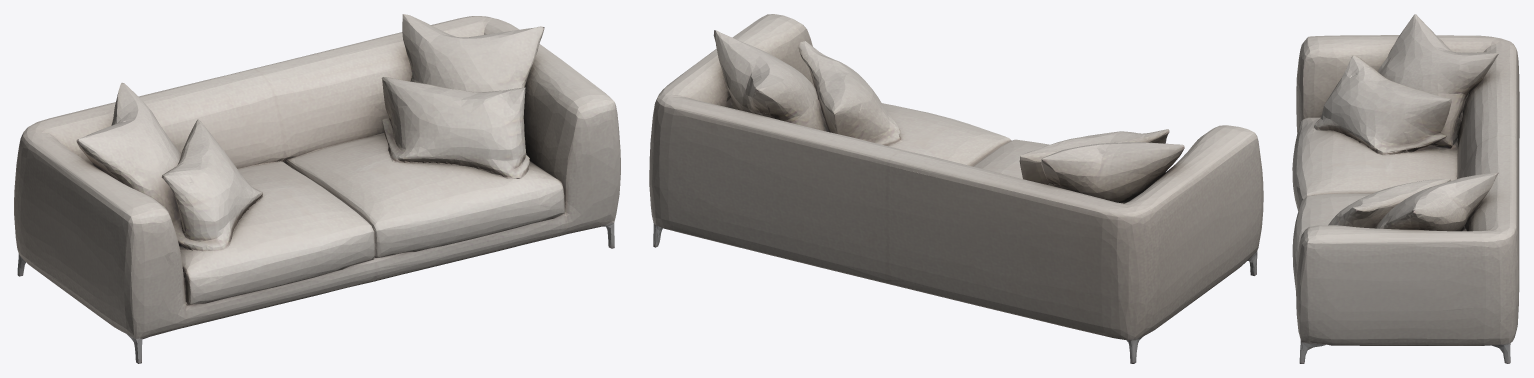
Rendered from sofa_ManonsMaisonElegant_bejeviy.glb.
The picture shows the model from 3 angles, left to right: view 1: azimuth 30°, elevation 25°; view 2: azimuth 150°, elevation 25°; view 3: azimuth 270°, elevation 25°; orthographic projection. The views are drawn at different scales.
Parts seen in each view (by area): view 1: world; view 2: world; view 3: world.
Part boxes in pixels (bbox=[...]): world: bbox=[14, 14, 620, 363]; world: bbox=[649, 14, 1263, 363]; world: bbox=[1292, 14, 1519, 363].
Size of the model in its own units: 2.48 by 0.835 by 1.13.
Materials: 1 (1 with a texture image).
